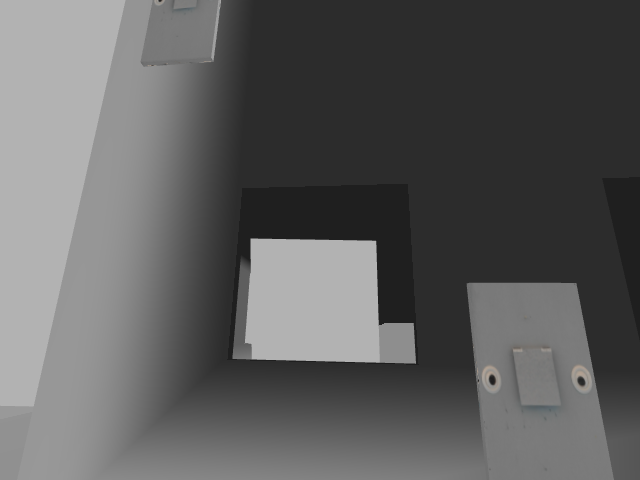facade: (478, 344, 594, 407)
